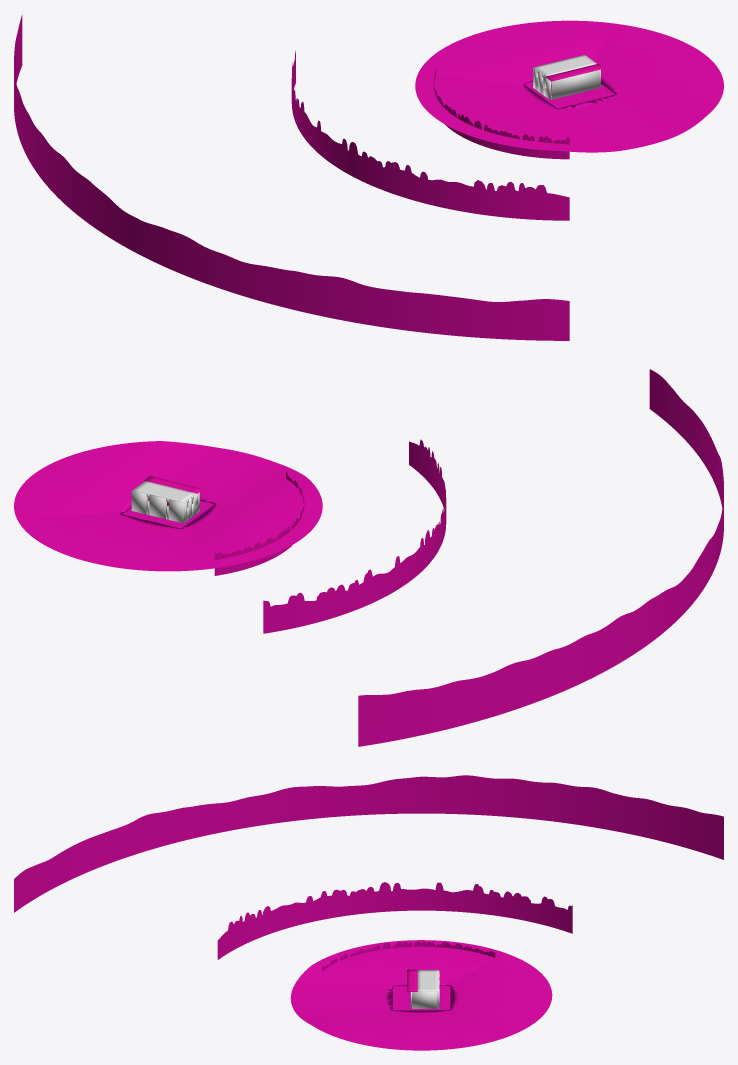
Rendered from court_set_grand_hall.glb.
3 renders of one model, top to bottom at view 1: azimuth 30°, elevation 25°; view 2: azimuth 150°, elevation 25°; view 3: azimuth 270°, elevation 25°, orthographic. The views are drawn at different scales.
Parts seen in each view (by area): view 1: Ground, Far2, Far1, Far0, ShadowCaster, StaticInked; view 2: Ground, Far2, Far1, StaticPlain, Far0, StaticInked; view 3: Far2, Ground, Far1, Far0, StaticPlain, StaticInked.
Boxes of the visible parts, x1,y1,x2,y2 form: Ground: [415, 20, 723, 152]; Far2: [14, 15, 569, 340]; Far1: [291, 50, 569, 220]; Far0: [433, 69, 569, 159]; ShadowCaster: [545, 63, 604, 99]; StaticInked: [534, 55, 596, 96]; Ground: [14, 441, 322, 571]; Far2: [358, 369, 723, 746]; Far1: [263, 439, 446, 633]; StaticPlain: [131, 490, 199, 523]; Far0: [214, 472, 304, 575]; StaticInked: [133, 481, 195, 502]; Far2: [14, 775, 723, 912]; Ground: [290, 940, 552, 1050]; Far1: [217, 882, 572, 959]; Far0: [322, 941, 495, 971]; StaticPlain: [412, 970, 439, 1008]; StaticInked: [417, 970, 438, 991].
Size of the model in its own units: 230 by 18.32 by 272.
